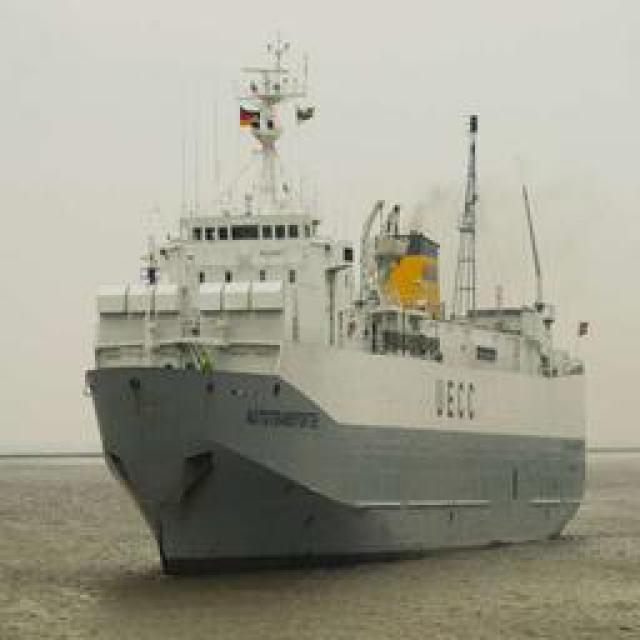Ship: (83, 240, 591, 570)
